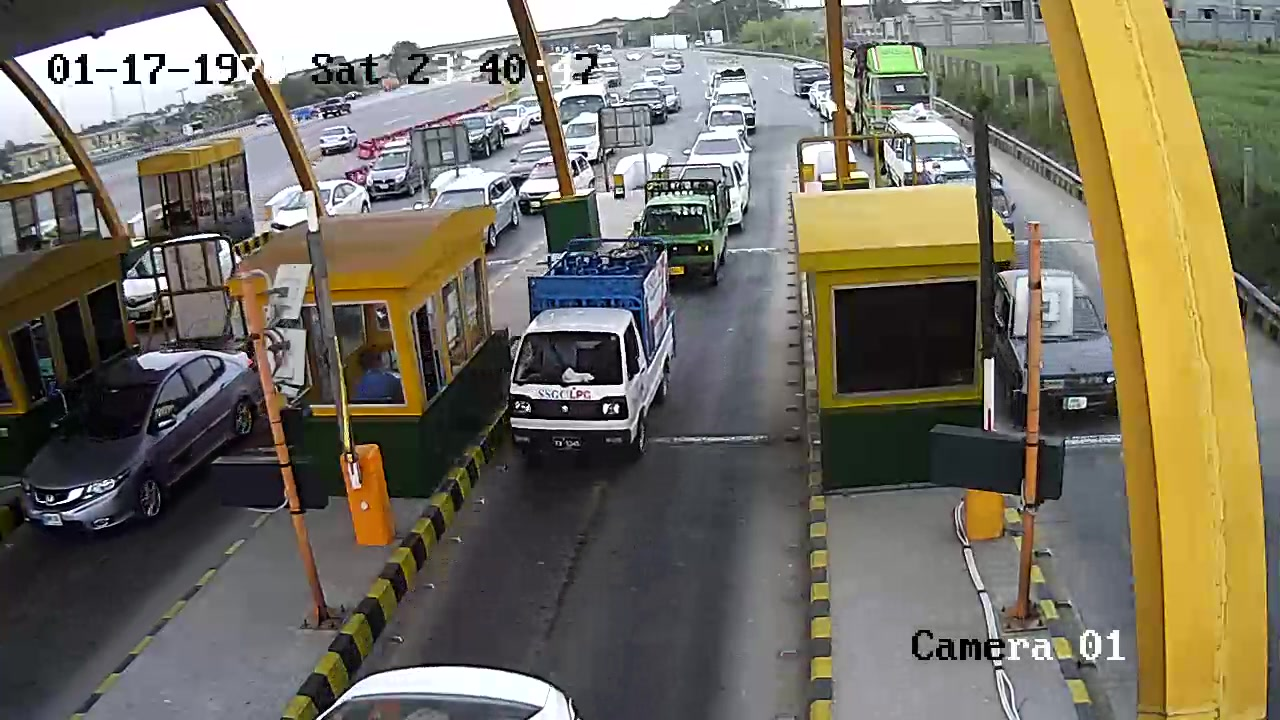F1: (506, 231, 683, 477)
